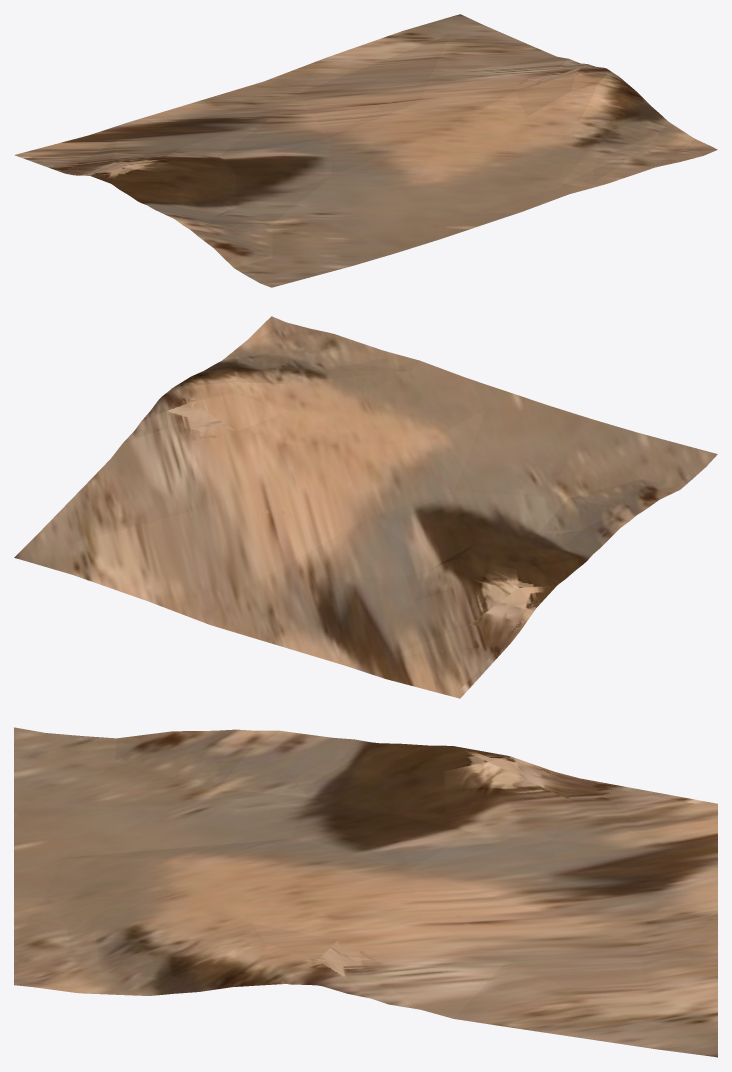
The picture shows the model from 3 angles, top to bottom: view 1: azimuth 30°, elevation 25°; view 2: azimuth 150°, elevation 25°; view 3: azimuth 270°, elevation 25°; orthographic projection. The views are drawn at different scales.
Bounding box in the file's own units: 2.09 × 0.407 × 2.09.
3 materials, 3 textured.
